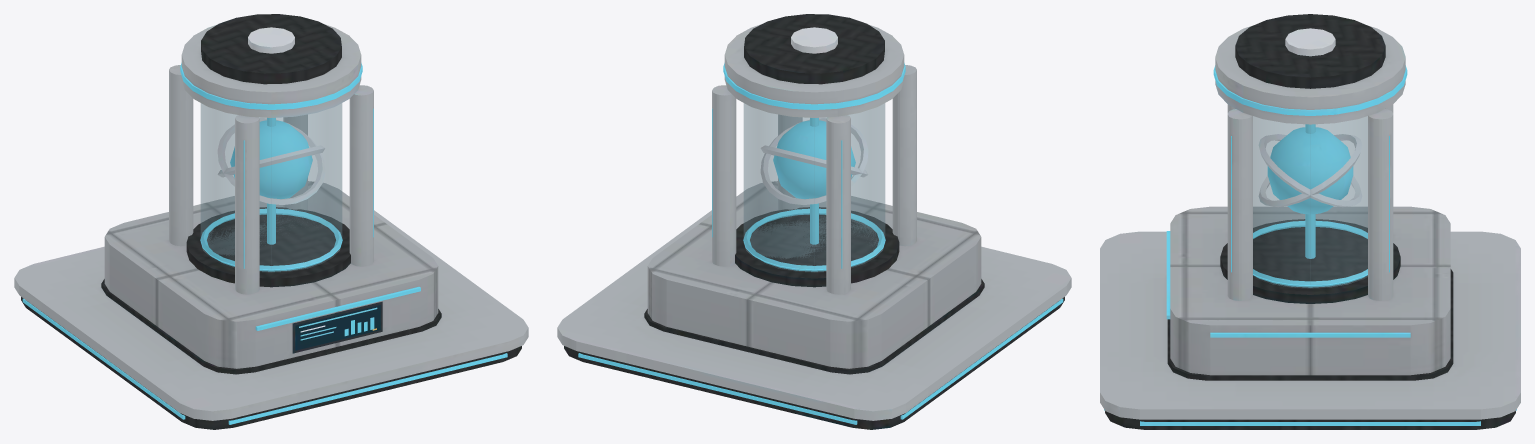
File: enterprise_generator.glb
3 views of the same model, side by side, from view 1: azimuth 30°, elevation 25°; view 2: azimuth 150°, elevation 25°; view 3: azimuth 270°, elevation 25° (orthographic). The views are drawn at different scales.
Visible parts, largest first — view 1: te_enterprise_generator; view 2: te_enterprise_generator; view 3: te_enterprise_generator.
Boxes of the visible parts, box(x1,y1,x2,y2) form: te_enterprise_generator: box(14, 14, 528, 429); te_enterprise_generator: box(557, 14, 1071, 429); te_enterprise_generator: box(1100, 14, 1520, 429).
Bounding box in the file's own units: 0.84 × 0.67 × 0.84.
2 materials, 1 textured.
